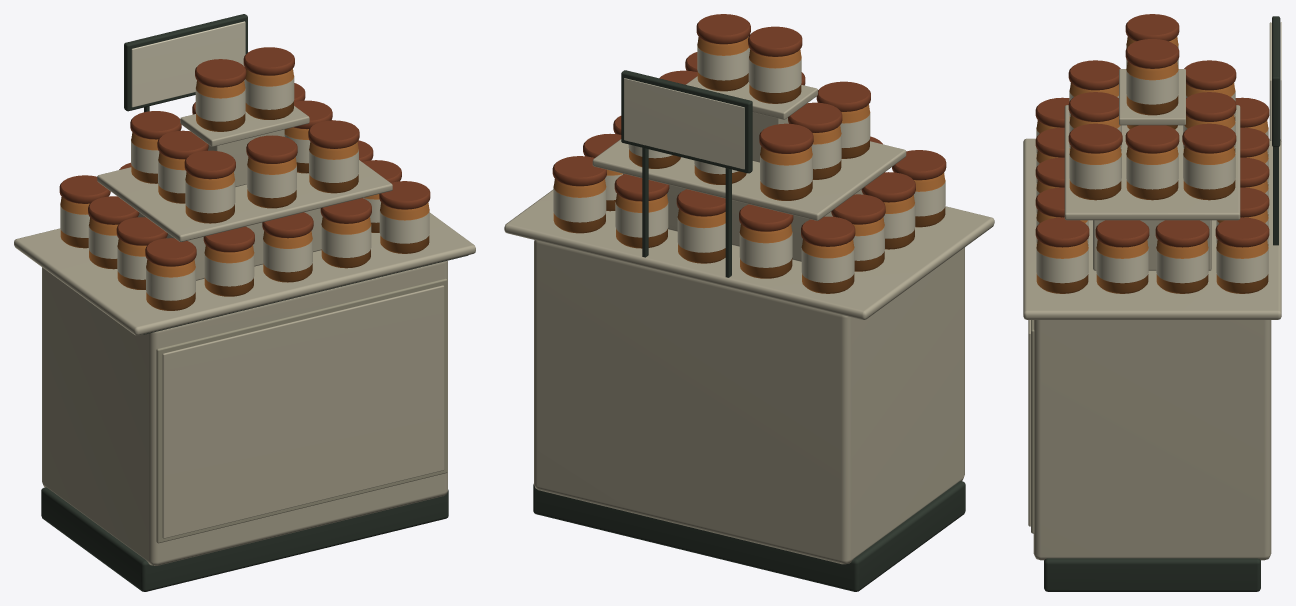
The model's file is edited.glb.
The picture shows the model from 3 angles, left to right: view 1: azimuth 30°, elevation 25°; view 2: azimuth 150°, elevation 25°; view 3: azimuth 270°, elevation 25°; orthographic projection. The views are drawn at different scales.
Parts seen in each view (by area): view 1: DISPLAY_SharedMatteFixtureAndBlankPaper, DISPLAY_SharedPlainTerracottaLid, DISPLAY_SharedOpaquePeanutTone; view 2: DISPLAY_SharedMatteFixtureAndBlankPaper, DISPLAY_SharedPlainTerracottaLid, DISPLAY_SharedOpaquePeanutTone; view 3: DISPLAY_SharedMatteFixtureAndBlankPaper, DISPLAY_SharedPlainTerracottaLid, DISPLAY_SharedOpaquePeanutTone.
Boxes of the visible parts, <box> form: DISPLAY_SharedMatteFixtureAndBlankPaper: <box>14,14,475,591</box>; DISPLAY_SharedPlainTerracottaLid: <box>59,47,430,266</box>; DISPLAY_SharedOpaquePeanutTone: <box>60,68,429,310</box>; DISPLAY_SharedMatteFixtureAndBlankPaper: <box>504,46,994,591</box>; DISPLAY_SharedPlainTerracottaLid: <box>552,14,946,246</box>; DISPLAY_SharedOpaquePeanutTone: <box>553,37,945,293</box>; DISPLAY_SharedMatteFixtureAndBlankPaper: <box>1023,16,1281,591</box>; DISPLAY_SharedPlainTerracottaLid: <box>1035,14,1269,247</box>; DISPLAY_SharedOpaquePeanutTone: <box>1036,36,1268,293</box>.
Bounding box in the file's own units: 0.8 × 1.02 × 0.5.
